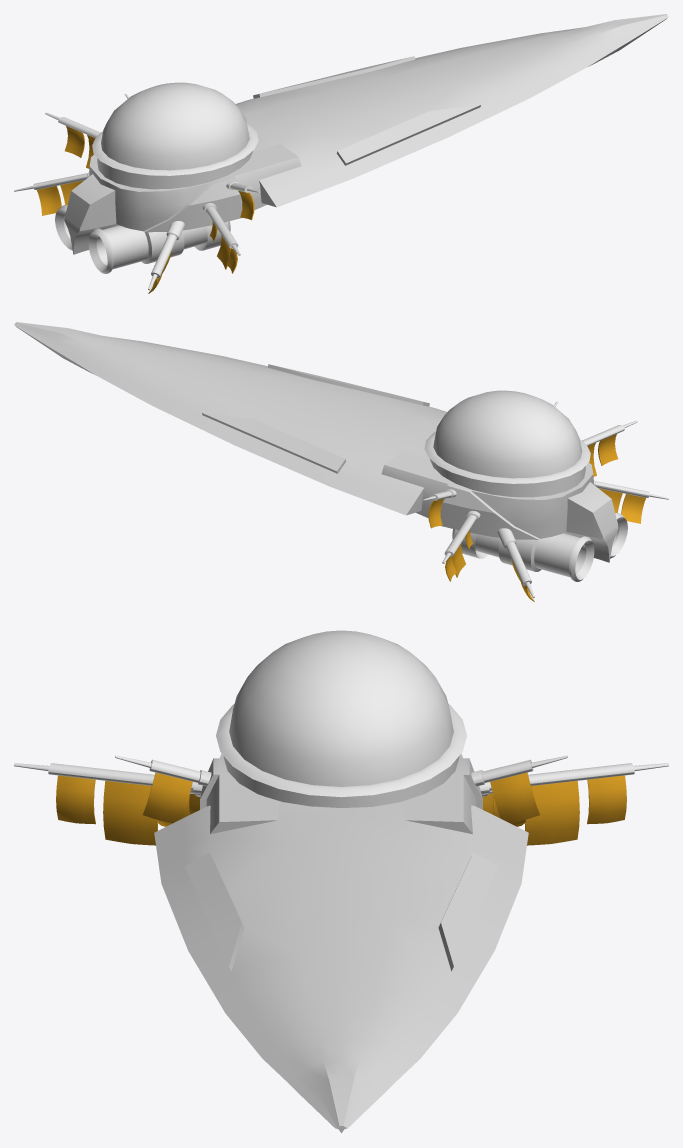
File: Player Ship Test 6.fbx
3 views of the same model, one above another, from view 1: azimuth 30°, elevation 25°; view 2: azimuth 150°, elevation 25°; view 3: azimuth 270°, elevation 25° (orthographic). The views are drawn at different scales.
Parts seen in each view (by area): view 1: Solaris_V1; view 2: Solaris_V1; view 3: Solaris_V1.
Boxes of the visible parts, bbox=[...] form: Solaris_V1: bbox=[14, 14, 668, 293]; Solaris_V1: bbox=[14, 322, 668, 601]; Solaris_V1: bbox=[14, 630, 668, 1133].
Size of the model in its own units: 5963 by 1420 by 3364.
